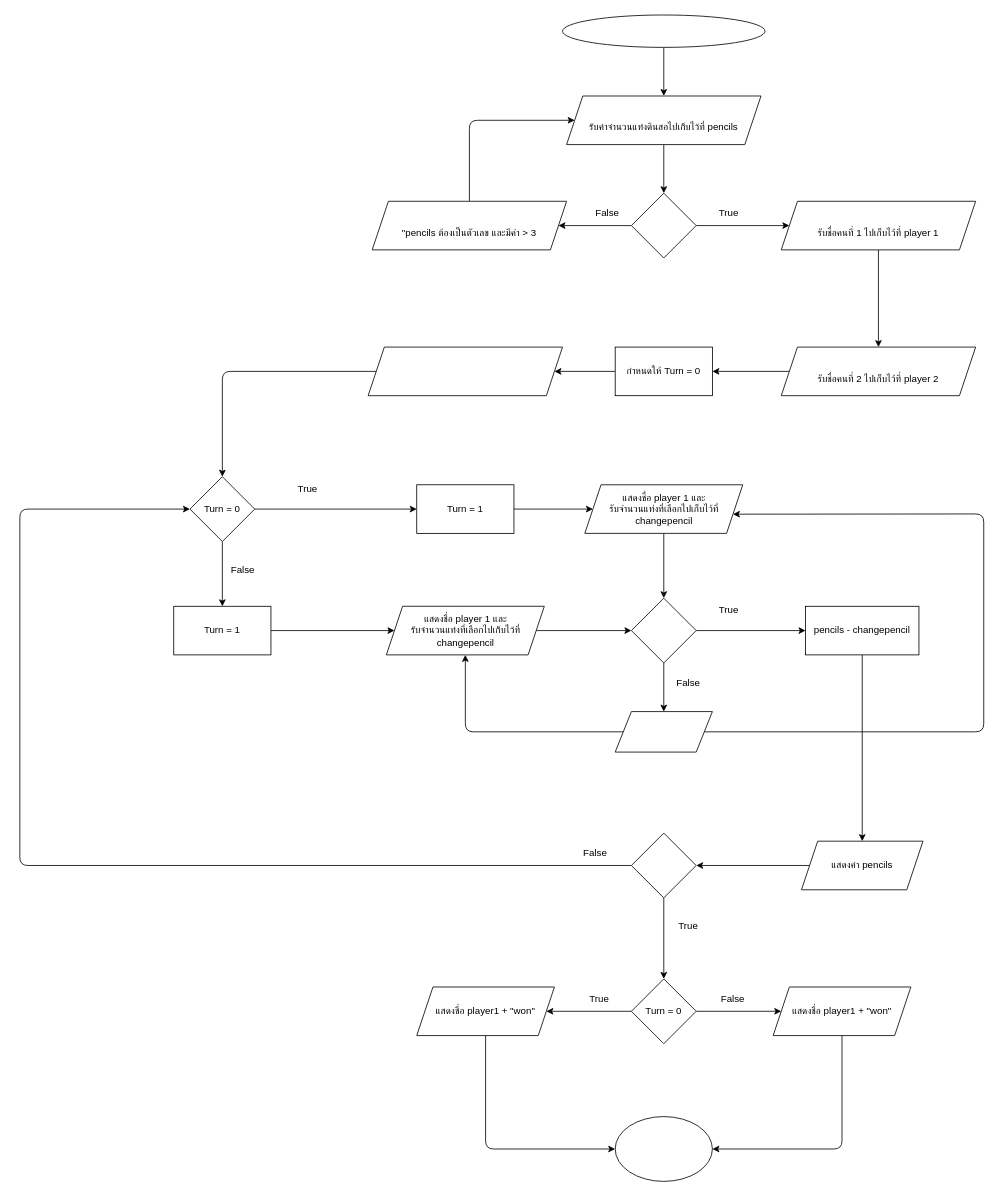
Some shapes in this 1004 by 1196 pixel diagram are drawn without their labels. Here are the shapes that lost their labels. From the top down, the centre of each, then its label:
point (663, 30): START
point (663, 225): pencils > 3
point (465, 371): แสดง pencils
point (663, 630): changepencil = {1,2,3} && pencils
point (663, 731): "possible values : '1','2',or'3'
point (663, 865): pencils = 0
point (663, 1148): END
